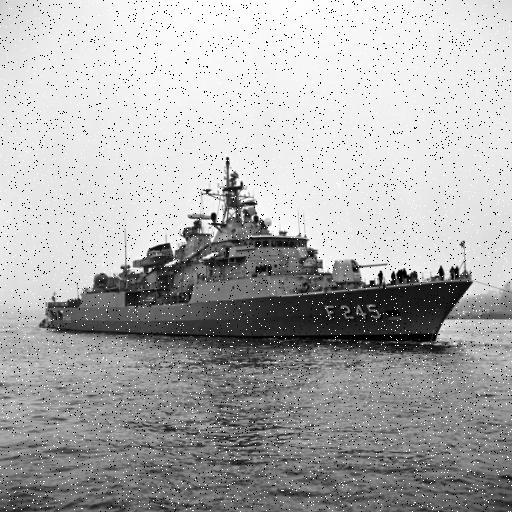Fragata: (38, 136, 481, 347)
